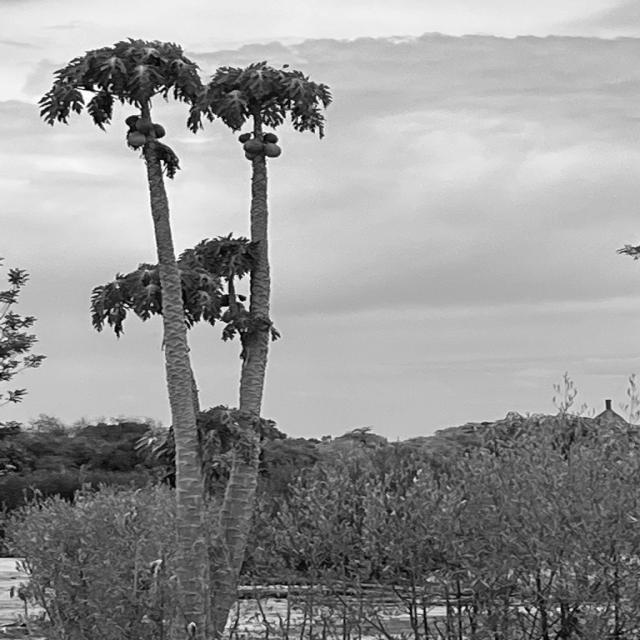Papaya-Tree: (42, 36, 388, 487)
